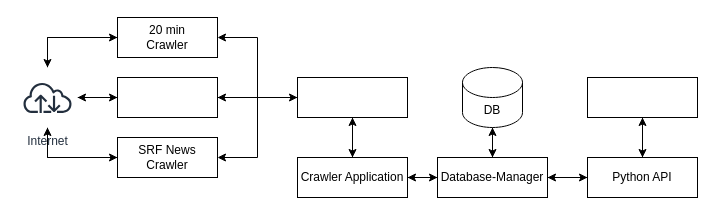
This 715x215 diagram has some shape labels left out. The box of each missing label's shape, as (x1, y1, x2, y2) in pixels:
VueJS Frontend: (586, 76, 698, 118)
Watson Crawler: (116, 76, 218, 118)
Web-Crawler Interface: (296, 76, 408, 118)
